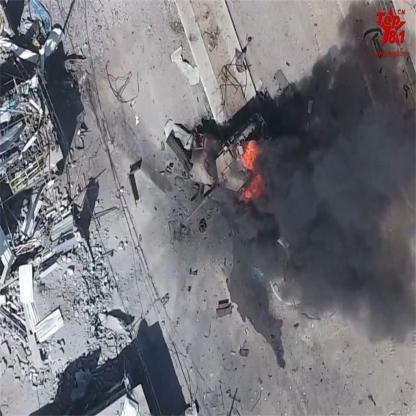fire: (231, 139, 275, 198)
smoke: (279, 87, 416, 335)
